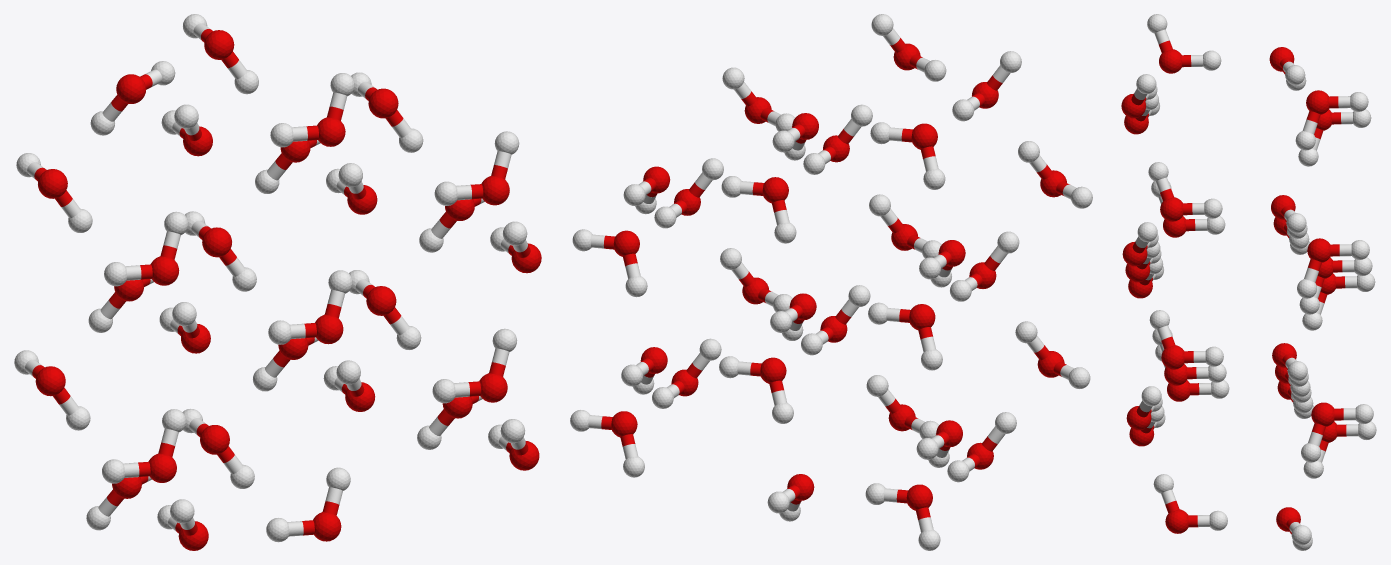
The model's file is ice.fbx.
3 views of the same model, side by side, from view 1: azimuth 30°, elevation 25°; view 2: azimuth 150°, elevation 25°; view 3: azimuth 270°, elevation 25° (orthographic). The views are drawn at different scales.
Parts seen in each view (by area): view 1: ice; view 2: ice; view 3: ice.
Part boxes in pixels (x1,y1,x2,y2): ice: (14, 14, 541, 550); ice: (570, 14, 1092, 550); ice: (1121, 14, 1376, 550).
Size of the model in its own units: 11552 by 11099 by 6374.
